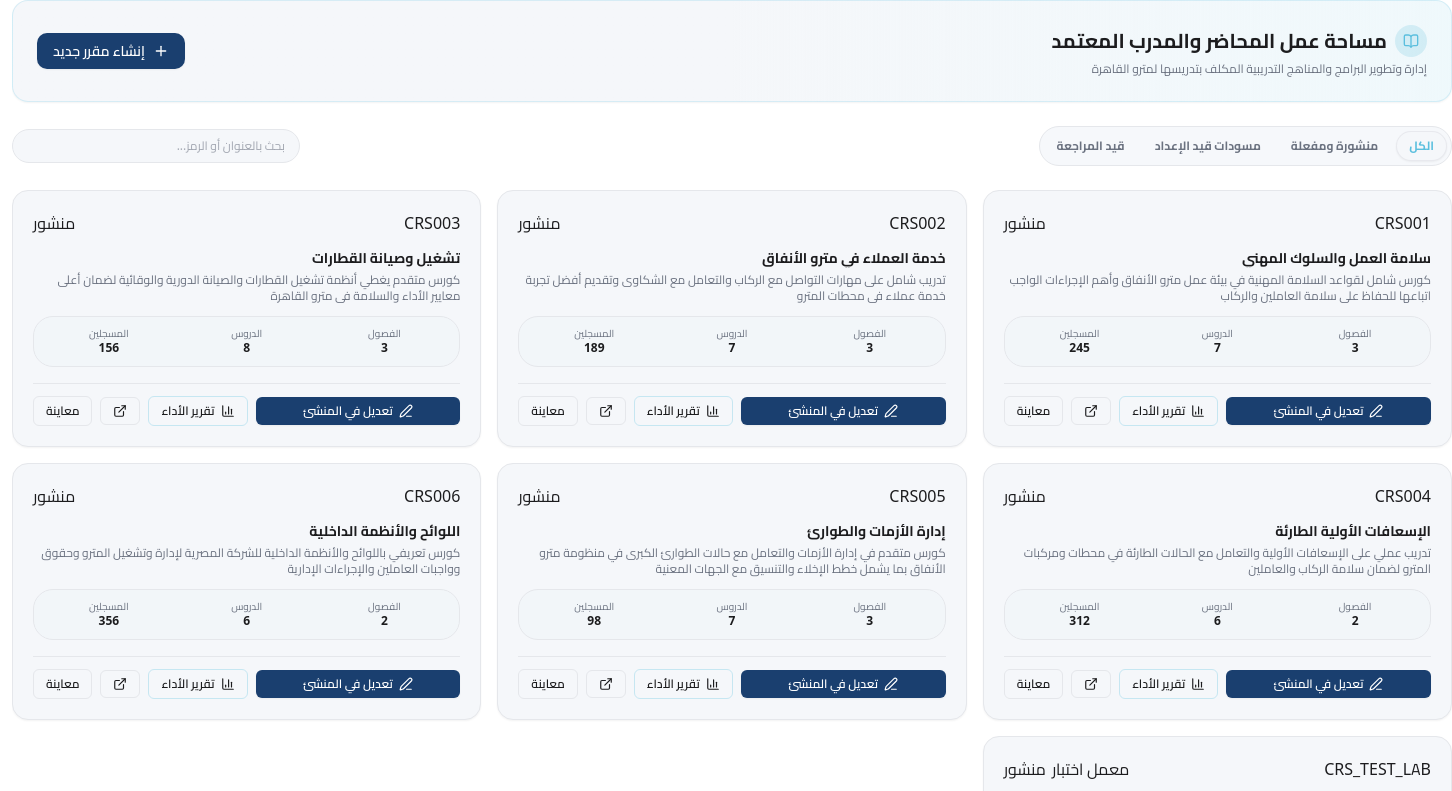
Test case: Increment 8 & 11: Lecturer Workspace & Course Management (/lecturer/courses) › filters courses using the live search input
The image size is (1452, 791).
Expected: the element with test id "workspace-course-card-CRS001" is shown, [983,190,1451,447]
Expected: the element with test id "workspace-course-card-CRS002" is shown, [497,190,967,447]
In the field with test id "workspace-search-input": x=156, y=146 [12,129,300,163], type "سلامة"
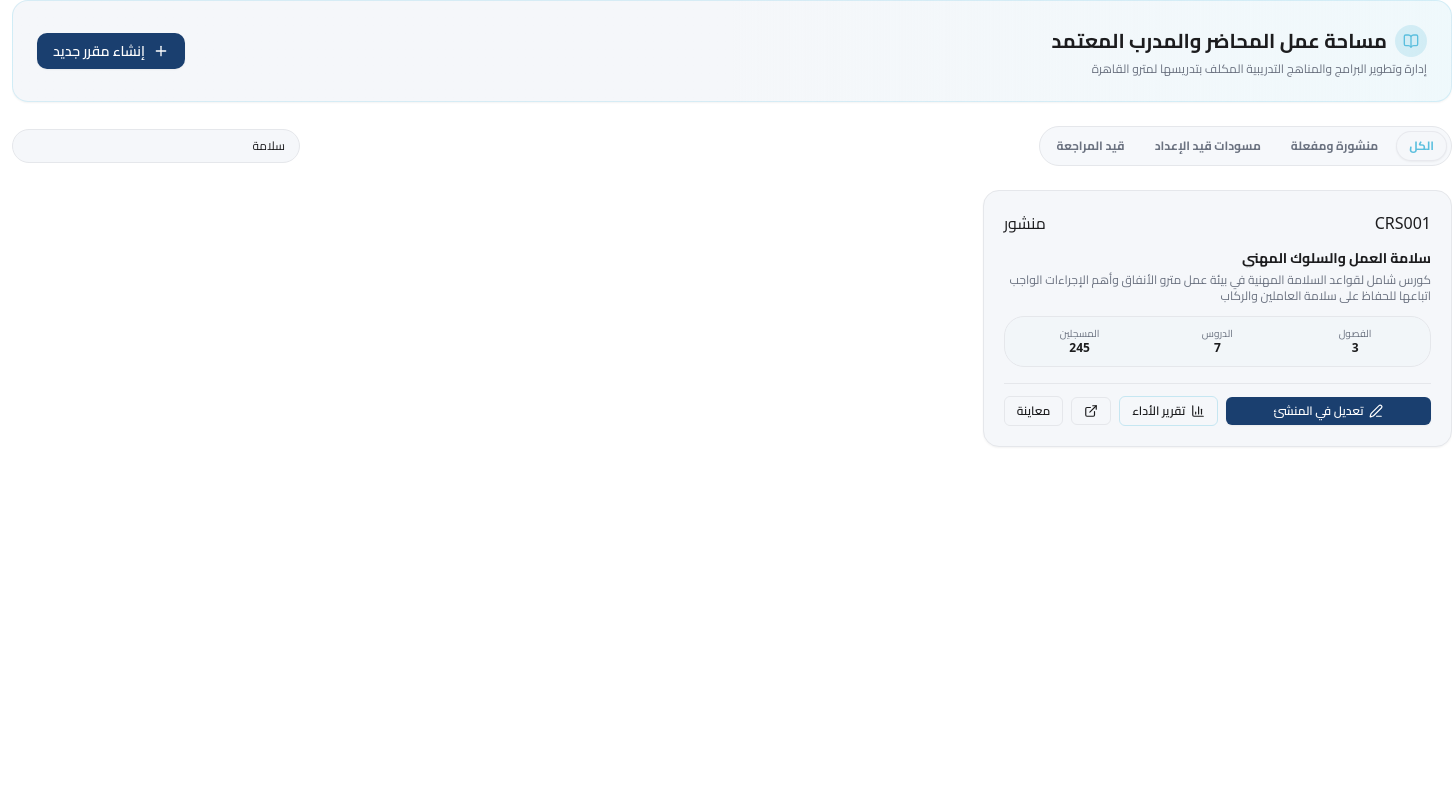
Expected: the element with test id "workspace-course-card-CRS001" is shown, [983,190,1451,447]
Expected: the element with test id "workspace-course-card-CRS002" is gone
